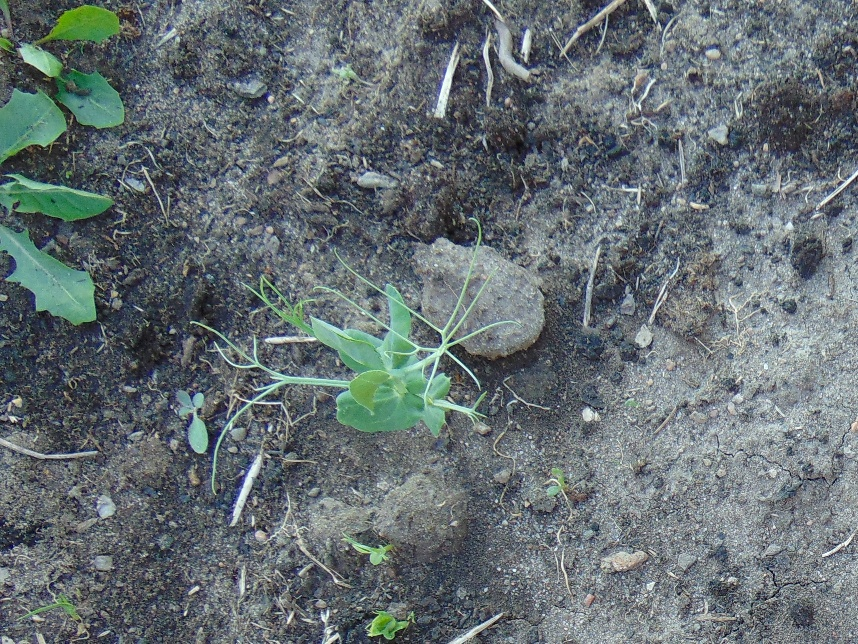crop: (223, 259, 487, 435), (339, 527, 390, 566), (365, 608, 412, 641)
weed: (1, 70, 113, 330), (1, 1, 127, 130), (175, 390, 210, 455), (31, 593, 82, 618)
